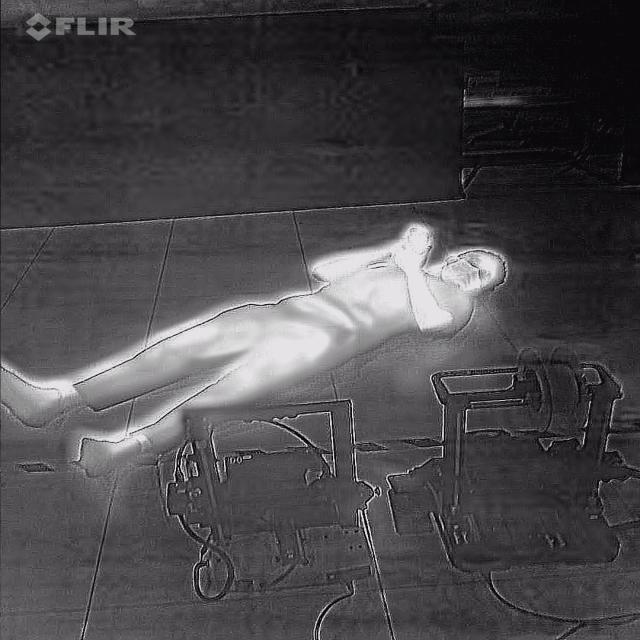Victim: (0, 213, 516, 477)
